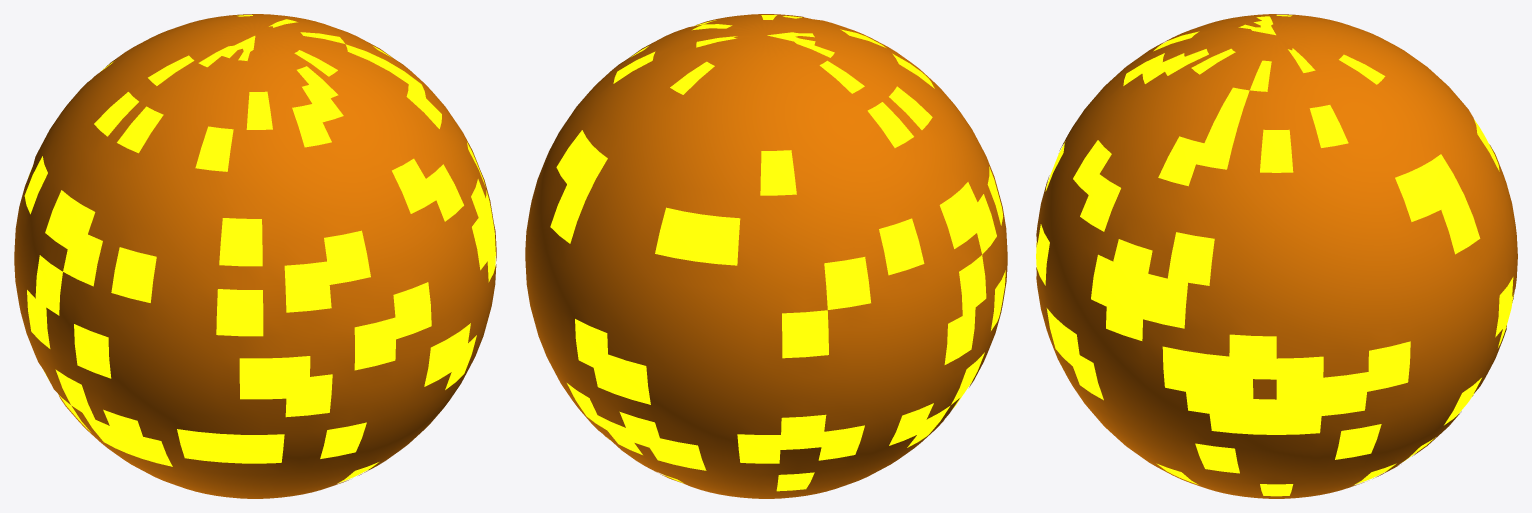
Rendered from ballofstuff.fbx_Collection.fbx.
The picture shows the model from 3 angles, left to right: view 1: azimuth 30°, elevation 25°; view 2: azimuth 150°, elevation 25°; view 3: azimuth 270°, elevation 25°; orthographic projection.
Visible parts, largest first — view 1: outer, inner; view 2: outer, inner; view 3: outer, inner.
Part boxes in pixels (box(x1,y1,x2,y2)): outer: box(14, 14, 496, 498); inner: box(24, 15, 495, 483); outer: box(525, 14, 1007, 498); inner: box(550, 15, 1005, 491); outer: box(1036, 14, 1517, 498); inner: box(1036, 15, 1513, 496).
Bounding box in the file's own units: 198 × 200 × 198.
